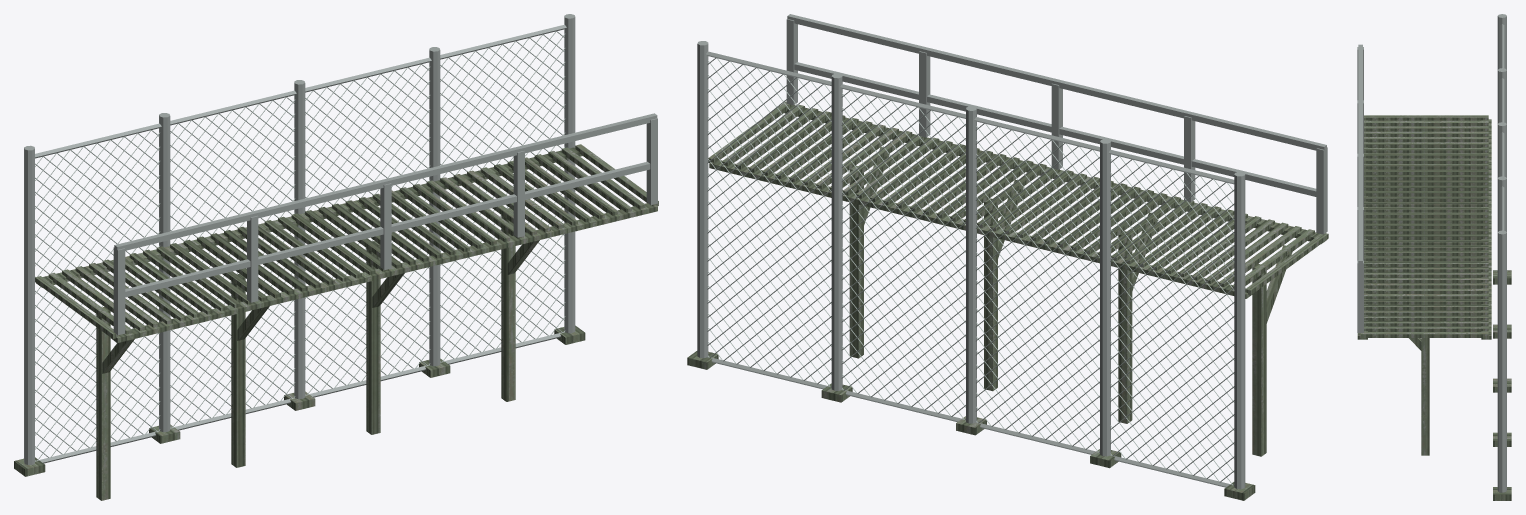
Rendered from cyclone-fence-6.gltf.
3 renders of one model, left to right at view 1: azimuth 30°, elevation 25°; view 2: azimuth 150°, elevation 25°; view 3: azimuth 270°, elevation 25°, orthographic. The views are drawn at different scales.
Visible parts, largest first — view 1: walkway-L1-metal, fence-L0-wire, fence-L0-iron, guards-L1-iron, structure-L0-metal, fence-L0-metal; view 2: fence-L0-wire, walkway-L1-metal, fence-L0-iron, guards-L1-iron, structure-L0-metal, fence-L0-metal; view 3: walkway-L1-metal, fence-L0-iron, guards-L1-iron, structure-L0-metal, fence-L0-metal.
Part boxes in pixels (bbox=[...]): walkway-L1-metal: bbox=[35, 144, 658, 342]; fence-L0-wire: bbox=[35, 31, 565, 460]; fence-L0-iron: bbox=[24, 14, 575, 464]; guards-L1-iron: bbox=[113, 113, 657, 334]; structure-L0-metal: bbox=[96, 208, 539, 500]; fence-L0-metal: bbox=[14, 325, 585, 476]; fence-L0-wire: bbox=[707, 57, 1234, 485]; walkway-L1-metal: bbox=[708, 101, 1328, 298]; fence-L0-iron: bbox=[697, 41, 1245, 489]; guards-L1-iron: bbox=[786, 14, 1327, 234]; structure-L0-metal: bbox=[849, 147, 1292, 456]; fence-L0-metal: bbox=[687, 351, 1255, 500]; walkway-L1-metal: bbox=[1357, 115, 1491, 339]; fence-L0-iron: bbox=[1497, 14, 1506, 492]; guards-L1-iron: bbox=[1357, 44, 1363, 332]; structure-L0-metal: bbox=[1409, 338, 1429, 455]; fence-L0-metal: bbox=[1493, 270, 1511, 500].
Bounding box in the file's own units: 6.22 × 3.42 × 1.81.
Materials: 3 (1 with a texture image).
